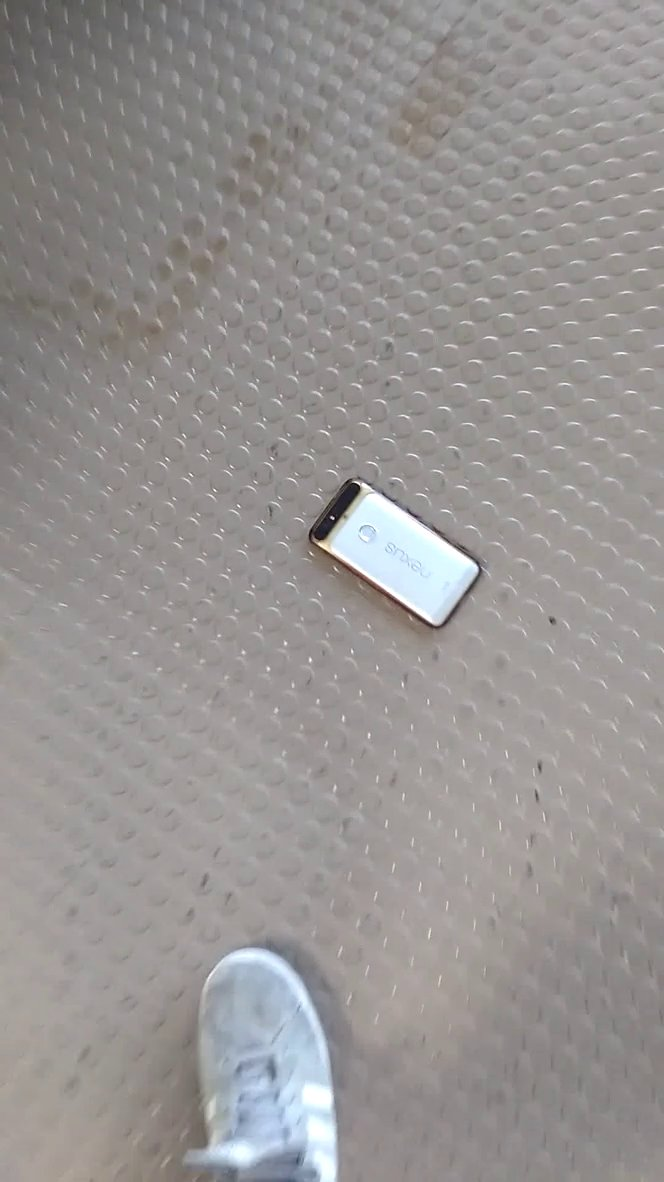phone: (296, 472, 496, 645)
